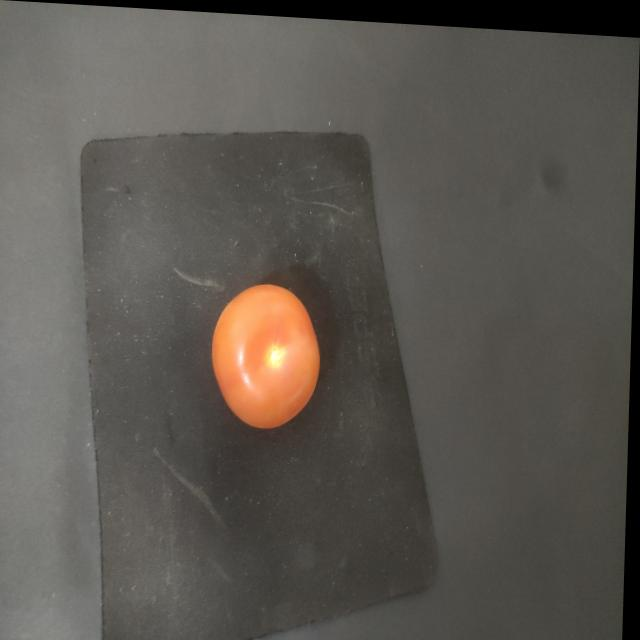sari: (210, 277, 323, 437)
